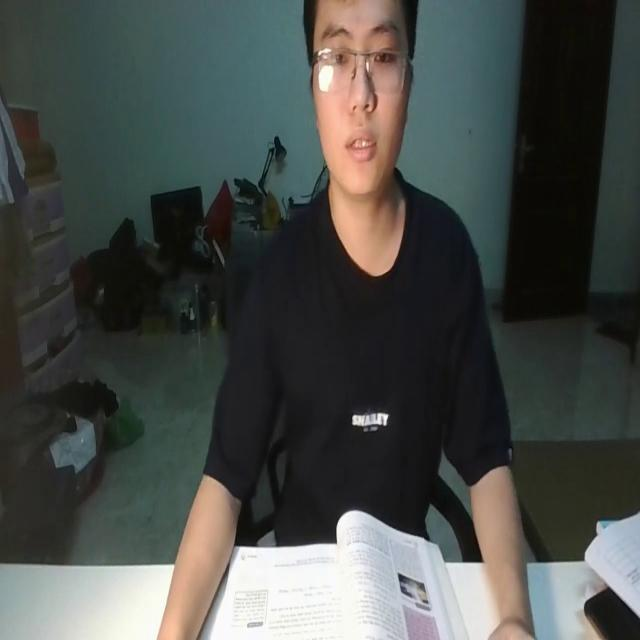book: (226, 511, 470, 640)
student: (153, 0, 539, 640)
